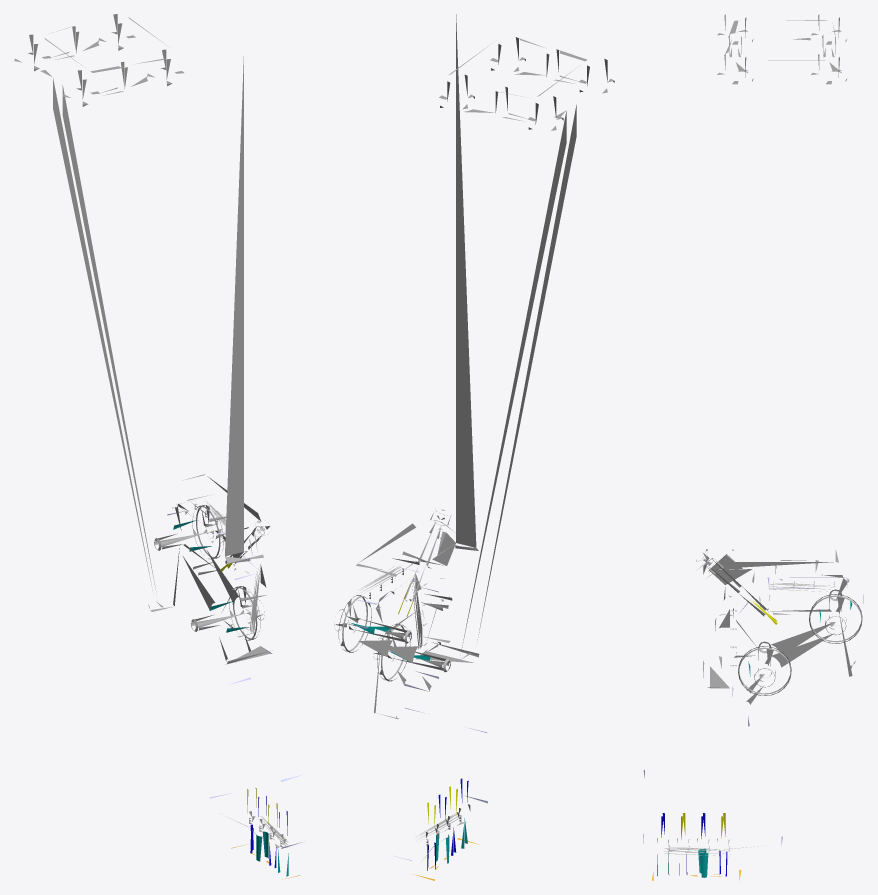
3 views of the same model, side by side, from view 1: azimuth 30°, elevation 25°; view 2: azimuth 150°, elevation 25°; view 3: azimuth 270°, elevation 25° (orthographic). The views are drawn at different scales.
Visible parts, largest first — view 1: F19721000063102000126_001_sym_of_zb_ub_auflage_25_fa (×3); view 2: F19721000063102000126_001_sym_of_zb_ub_auflage_25_fa (×3); view 3: F19721000063102000126_001_sym_of_zb_ub_auflage_25_fa (×2).
Part boxes in pixels (left/top/right/bottom): F19721000063102000126_001_sym_of_zb_ub_auflage_25_fa (×3): left=14, top=14, right=288, bottom=876; F19721000063102000126_001_sym_of_zb_ub_auflage_25_fa (×3): left=334, top=14, right=614, bottom=863; F19721000063102000126_001_sym_of_zb_ub_auflage_25_fa (×2): left=657, top=14, right=862, bottom=856.
Size of the model in its own units: 172 by 165 by 645.
